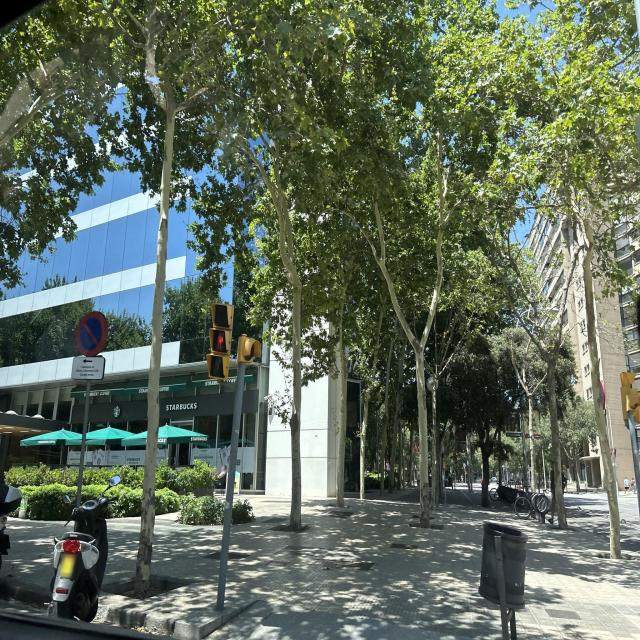forb_stopping: (74, 312, 108, 356)
